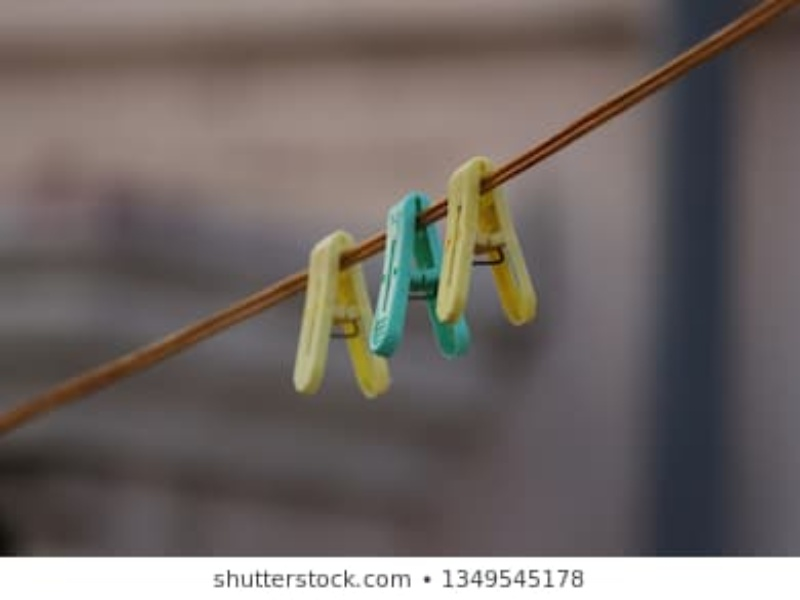plastic-peg: (433, 154, 541, 328), (369, 186, 467, 361), (291, 228, 387, 400)
